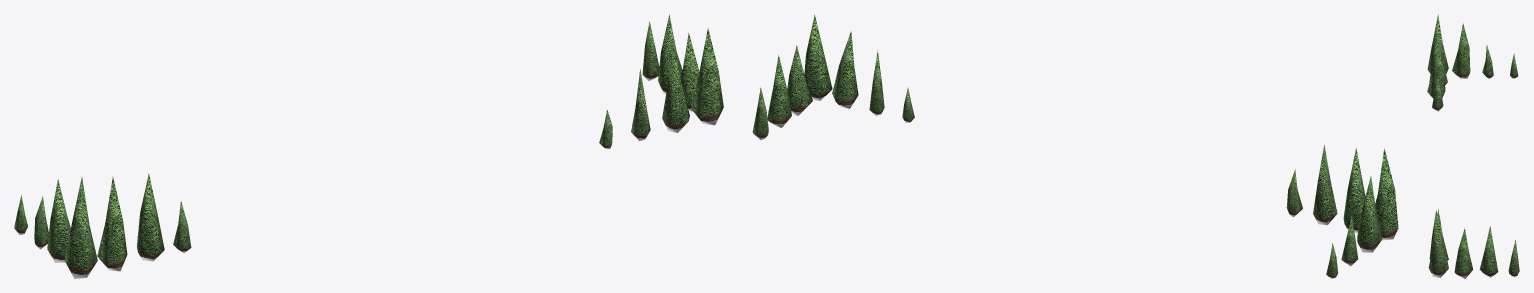
The model's file is hele_civic_trees.dae.
3 renders of one model, left to right at view 1: azimuth 30°, elevation 25°; view 2: azimuth 150°, elevation 25°; view 3: azimuth 270°, elevation 25°, orthographic. The views are drawn at different scales.
Parts seen in each view (by area): view 1: trees-Pivot; view 2: trees-Pivot; view 3: trees-Pivot.
Part boxes in pixels (box(x1,y1,x2,y2)): trees-Pivot: box(14, 14, 723, 278); trees-Pivot: box(752, 14, 1398, 278); trees-Pivot: box(1427, 14, 1519, 278).
Bounding box in the file's own units: 27.81 × 5.25 × 4.1.
